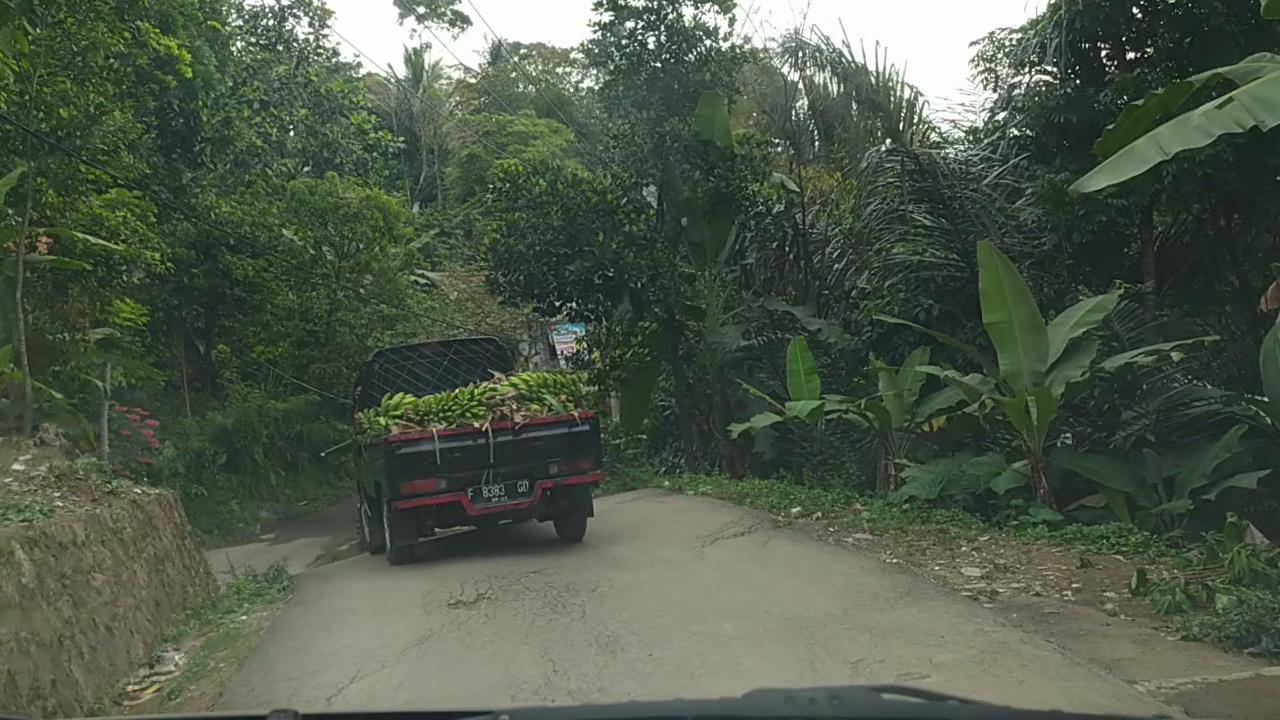pothole: (444, 591, 490, 614)
